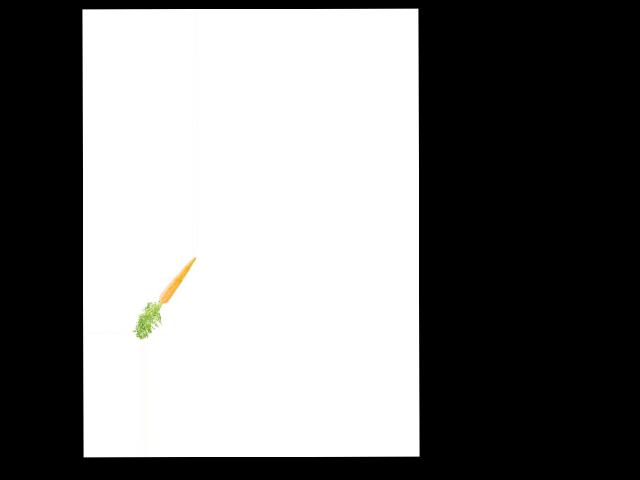carrot: (157, 255, 197, 309)
